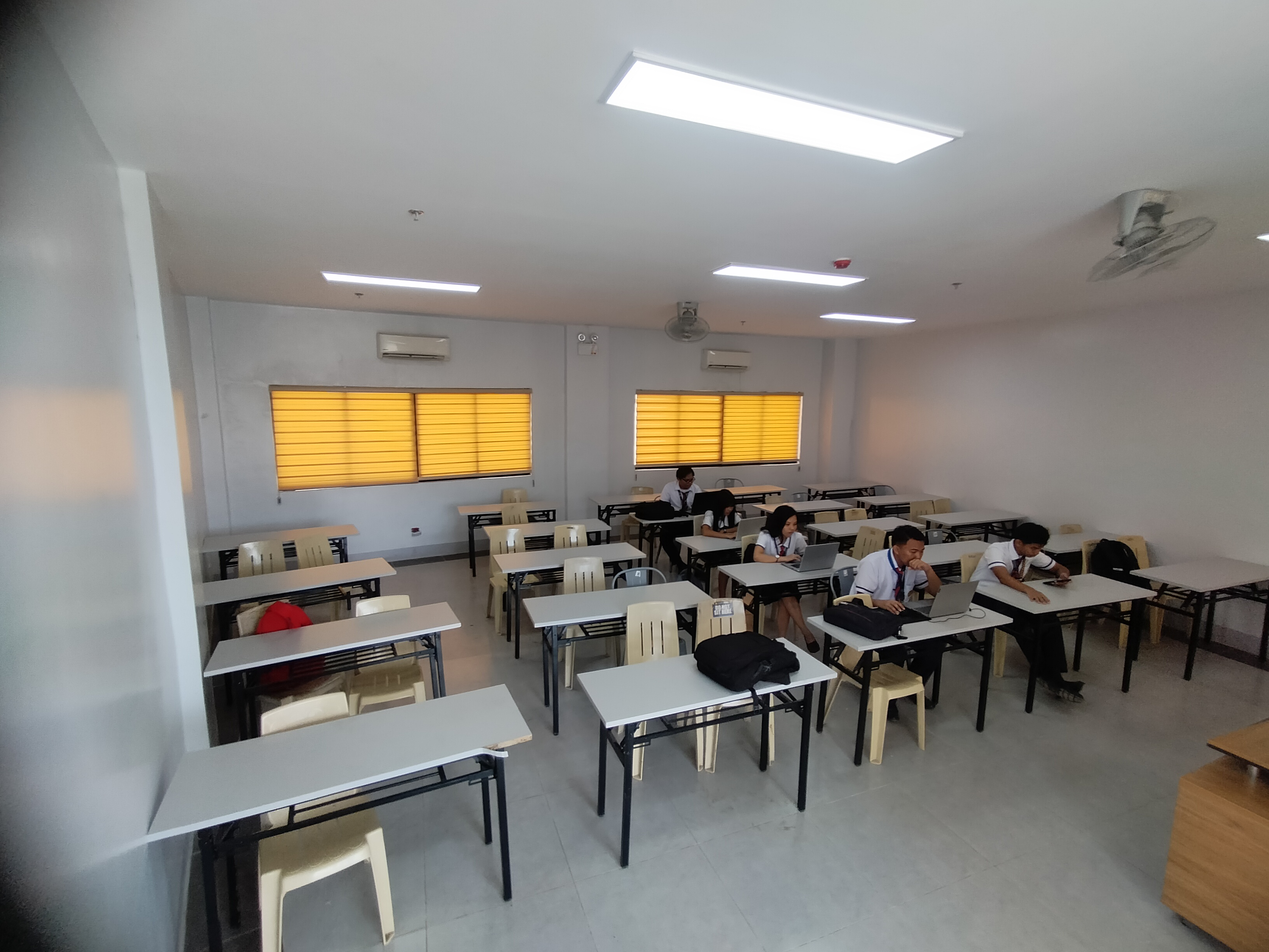with-student: (807, 523, 1013, 661), (962, 520, 1158, 631), (717, 504, 870, 595), (673, 488, 776, 558), (629, 462, 717, 532)
